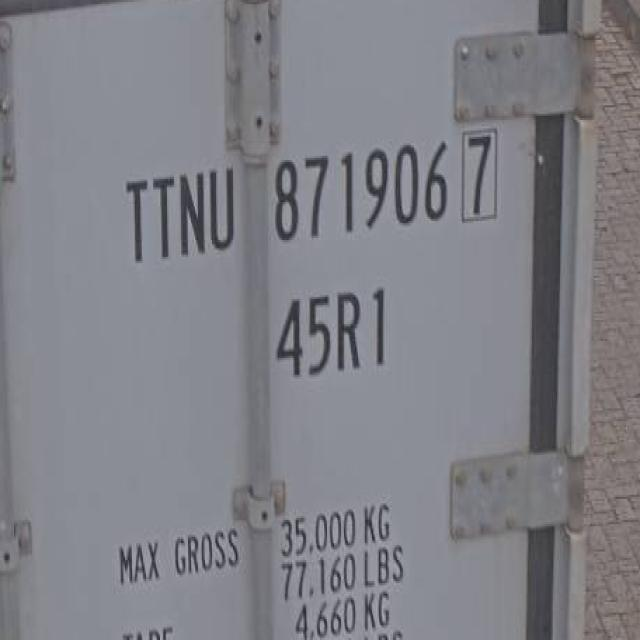dv: (454, 125, 502, 228)
owner: (118, 152, 236, 264)
serial: (265, 141, 453, 239)
size: (269, 280, 391, 382)
